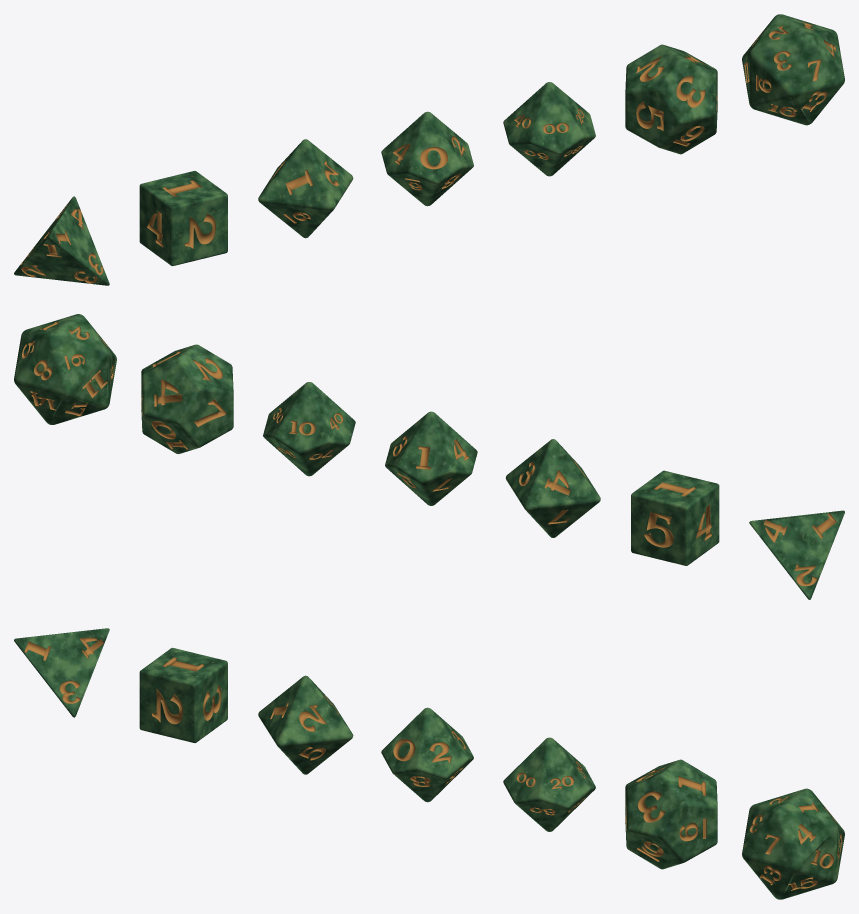
File: forest.glb
3 views of the same model, one above another, from view 1: azimuth 30°, elevation 25°; view 2: azimuth 150°, elevation 25°; view 3: azimuth 330°, elevation 25° (orthographic).
Parts seen in each view (by area): view 1: d20, d12, d6, d100, d10, d8, d4; view 2: d20, d12, d6, d100, d10, d8, d4; view 3: d20, d12, d6, d8, d10, d100, d4.
Part boxes in pixels (x1,y1,x2,y2): d20: (742,14,844,125); d12: (625,44,717,154); d6: (139,171,227,266); d100: (503,82,595,176); d10: (381,111,473,206); d8: (258,139,353,238); d4: (14,196,109,285); d20: (14,314,116,424); d12: (141,344,233,453); d6: (631,470,719,565); d100: (263,382,355,476); d10: (385,411,477,505); d8: (505,439,600,537); d4: (749,510,844,599); d20: (742,788,844,899); d12: (625,759,717,869); d6: (139,647,227,742); d8: (258,675,353,774); d10: (381,707,473,802); d100: (503,737,595,831); d4: (14,628,109,717).
Size of the model in its own units: 21.14 by 2.47 by 2.47.
14 materials, 7 textured.
